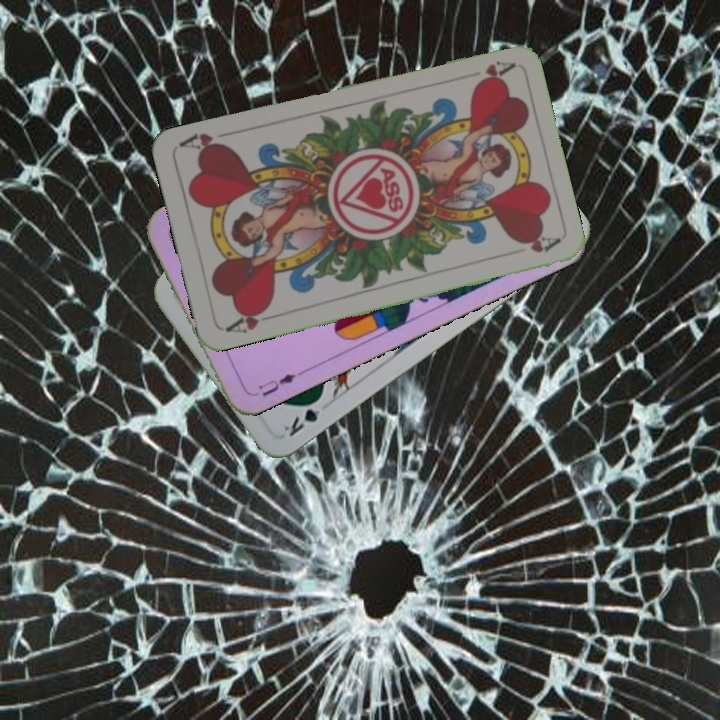EU: (249, 369, 299, 399)
GK: (277, 392, 325, 439)
HA: (221, 302, 279, 336), (470, 57, 516, 87)
